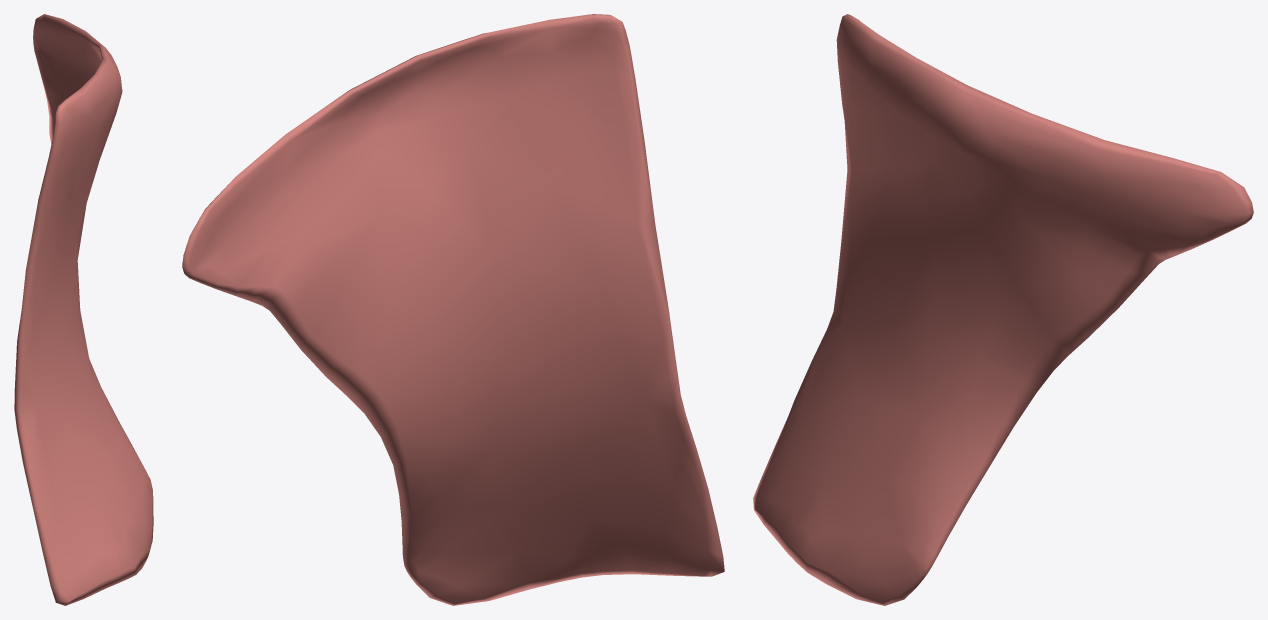
3 renders of one model, left to right at view 1: azimuth 30°, elevation 25°; view 2: azimuth 150°, elevation 25°; view 3: azimuth 270°, elevation 25°, orthographic. The views are drawn at different scales.
Visible parts, largest first — view 1: ZA_89d8693aaefc7156; view 2: ZA_89d8693aaefc7156; view 3: ZA_89d8693aaefc7156.
Boxes of the visible parts, <box> form: ZA_89d8693aaefc7156: <box>14,14,153,605</box>; ZA_89d8693aaefc7156: <box>182,14,724,605</box>; ZA_89d8693aaefc7156: <box>753,14,1253,605</box>.
Bounding box in the file's own units: 0.0126 × 0.0275 × 0.0233.
